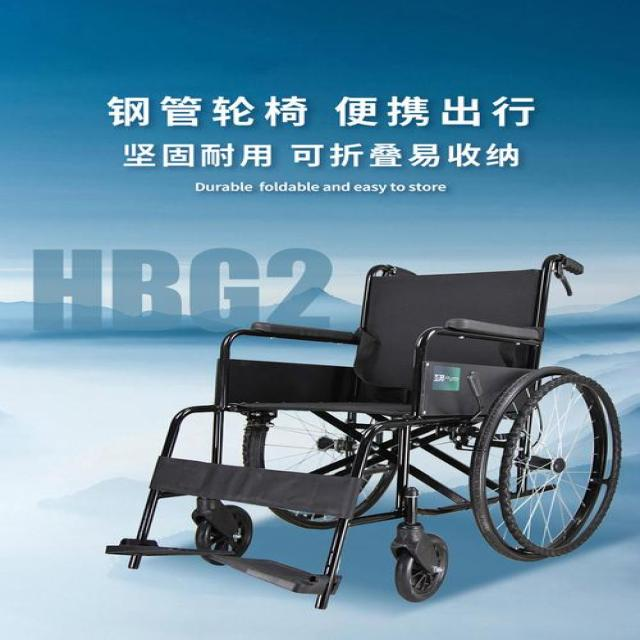wheelchairs: (98, 253, 640, 617)
